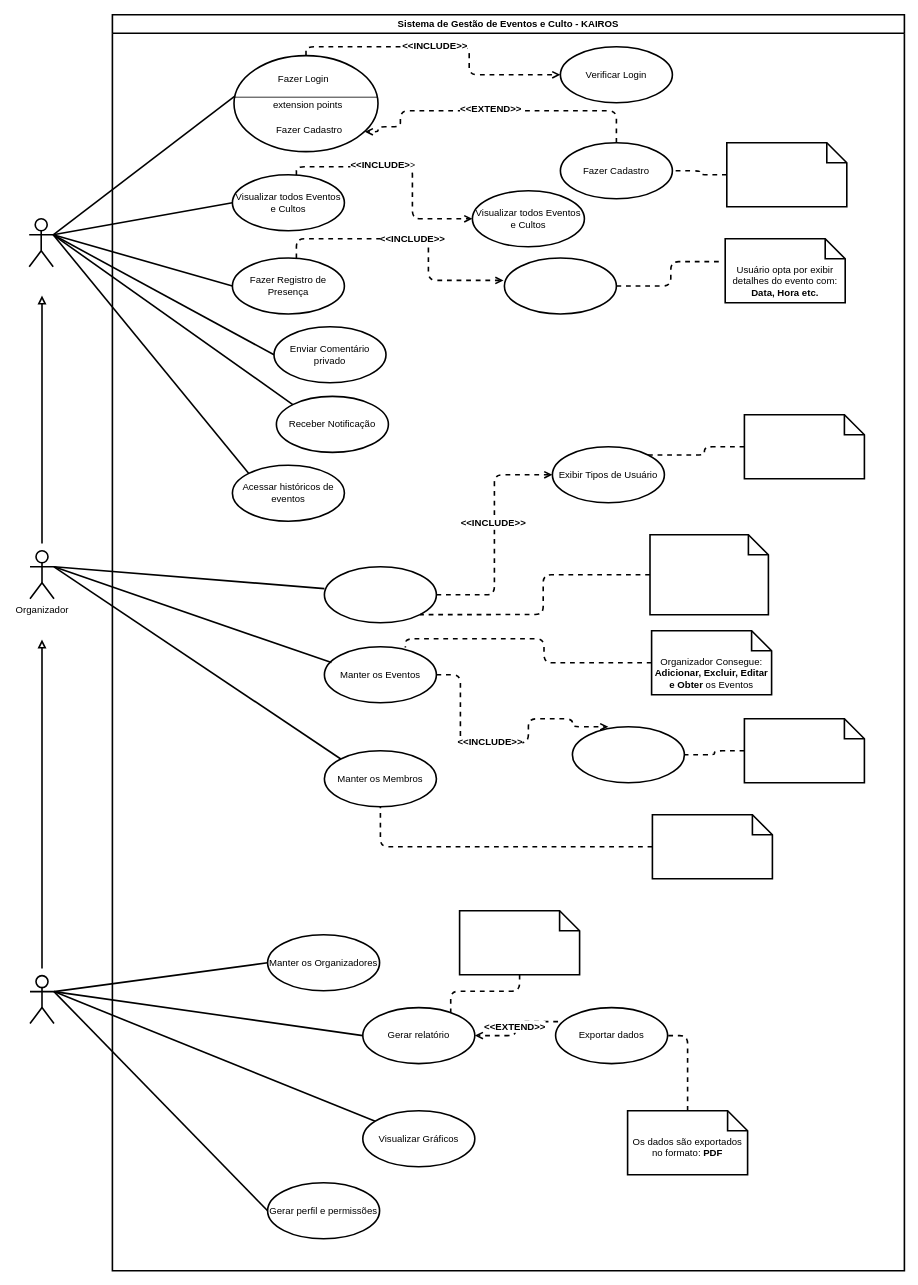
The diagram is 918 pixels wide and 1285 high, and some of its shapes have lost their labels. The shapes that lost their labels are listed below. From the top down, each one's centre as x and y in pixels, then its label:
At pixel 786 174: "Usuário opta por fazer cadastro caso não esteja no sistema".
At pixel 41 242: "Membros".
At pixel 560 285: "Exibir detalhes de Eventos".
At pixel 804 446: "Organizador opta por exibir tipos de Usuario com: Adm, Comun etc.".
At pixel 380 594: "Manter os Tipos de Eventos".
At pixel 709 574: "Organizador Consegue: Adicionar, Excluir, Editar e Obter os Tipos de Eventos".
At pixel 628 754: "Exibir Tipos de Eventos".
At pixel 804 750: "Organizador opta por exibir tipos de evento com: Culto, Ensaios etc.".
At pixel 712 846: "Organizador Consegue: Cadastrar, Excluir, Editar e Obter os Membros".
At pixel 519 942: "Gerar relatório: Mensal, Anual".
At pixel 41 999: "Administador".
